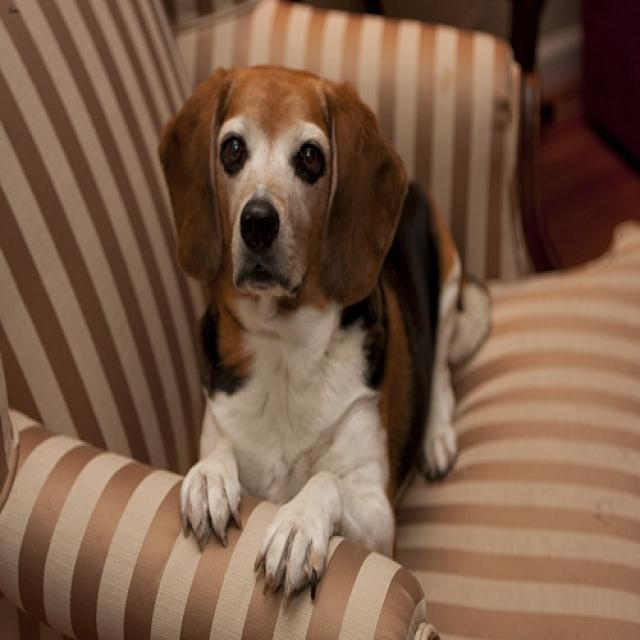dog-beagle: (146, 48, 498, 619)
